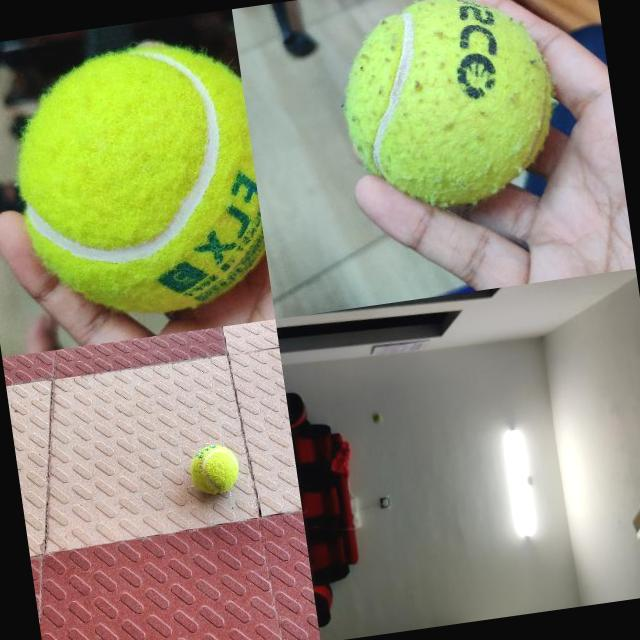Tennis Ball: (3, 35, 272, 328), (329, 0, 568, 218), (188, 442, 242, 496), (372, 412, 382, 424)
